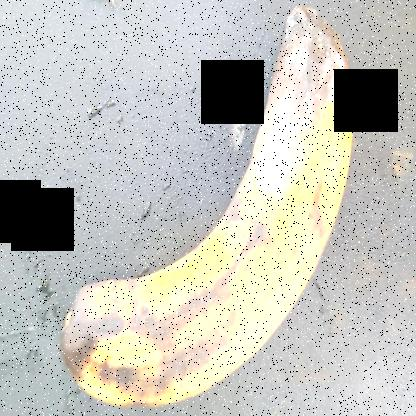overripe: (56, 9, 361, 415)
